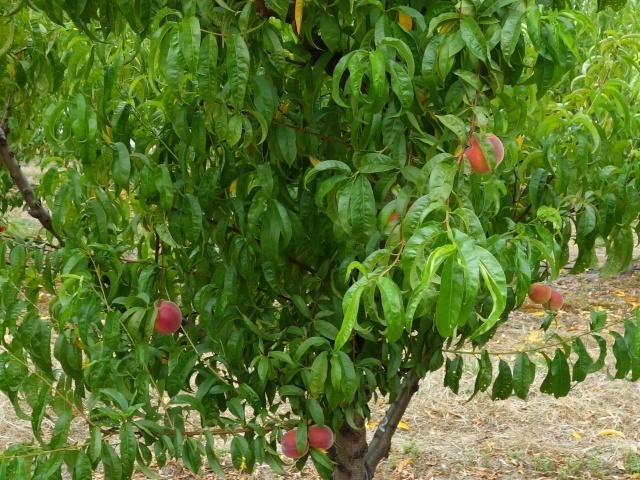peach: (460, 128, 508, 177), (149, 298, 185, 338), (303, 419, 337, 453), (279, 426, 312, 461), (526, 276, 553, 307), (544, 287, 568, 318)
